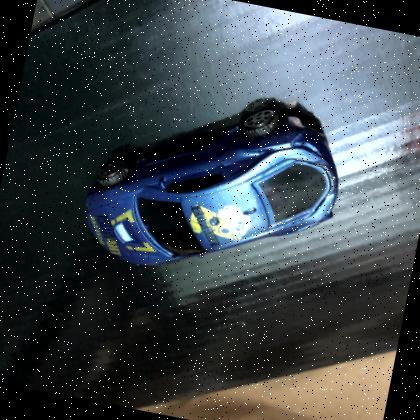Car: (85, 110, 339, 264)
